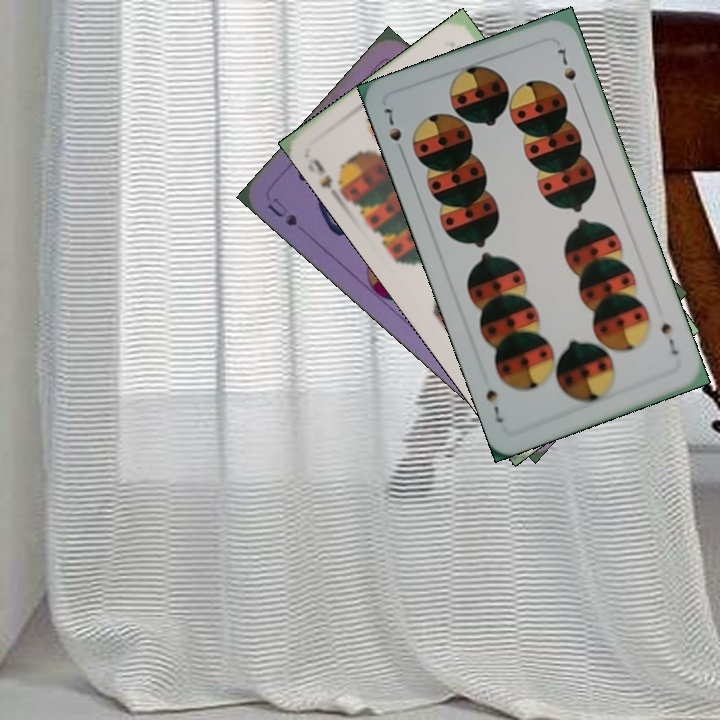S7: (381, 104, 408, 159), (657, 317, 681, 358)
S9: (309, 155, 350, 204)
SU: (263, 193, 300, 229)
